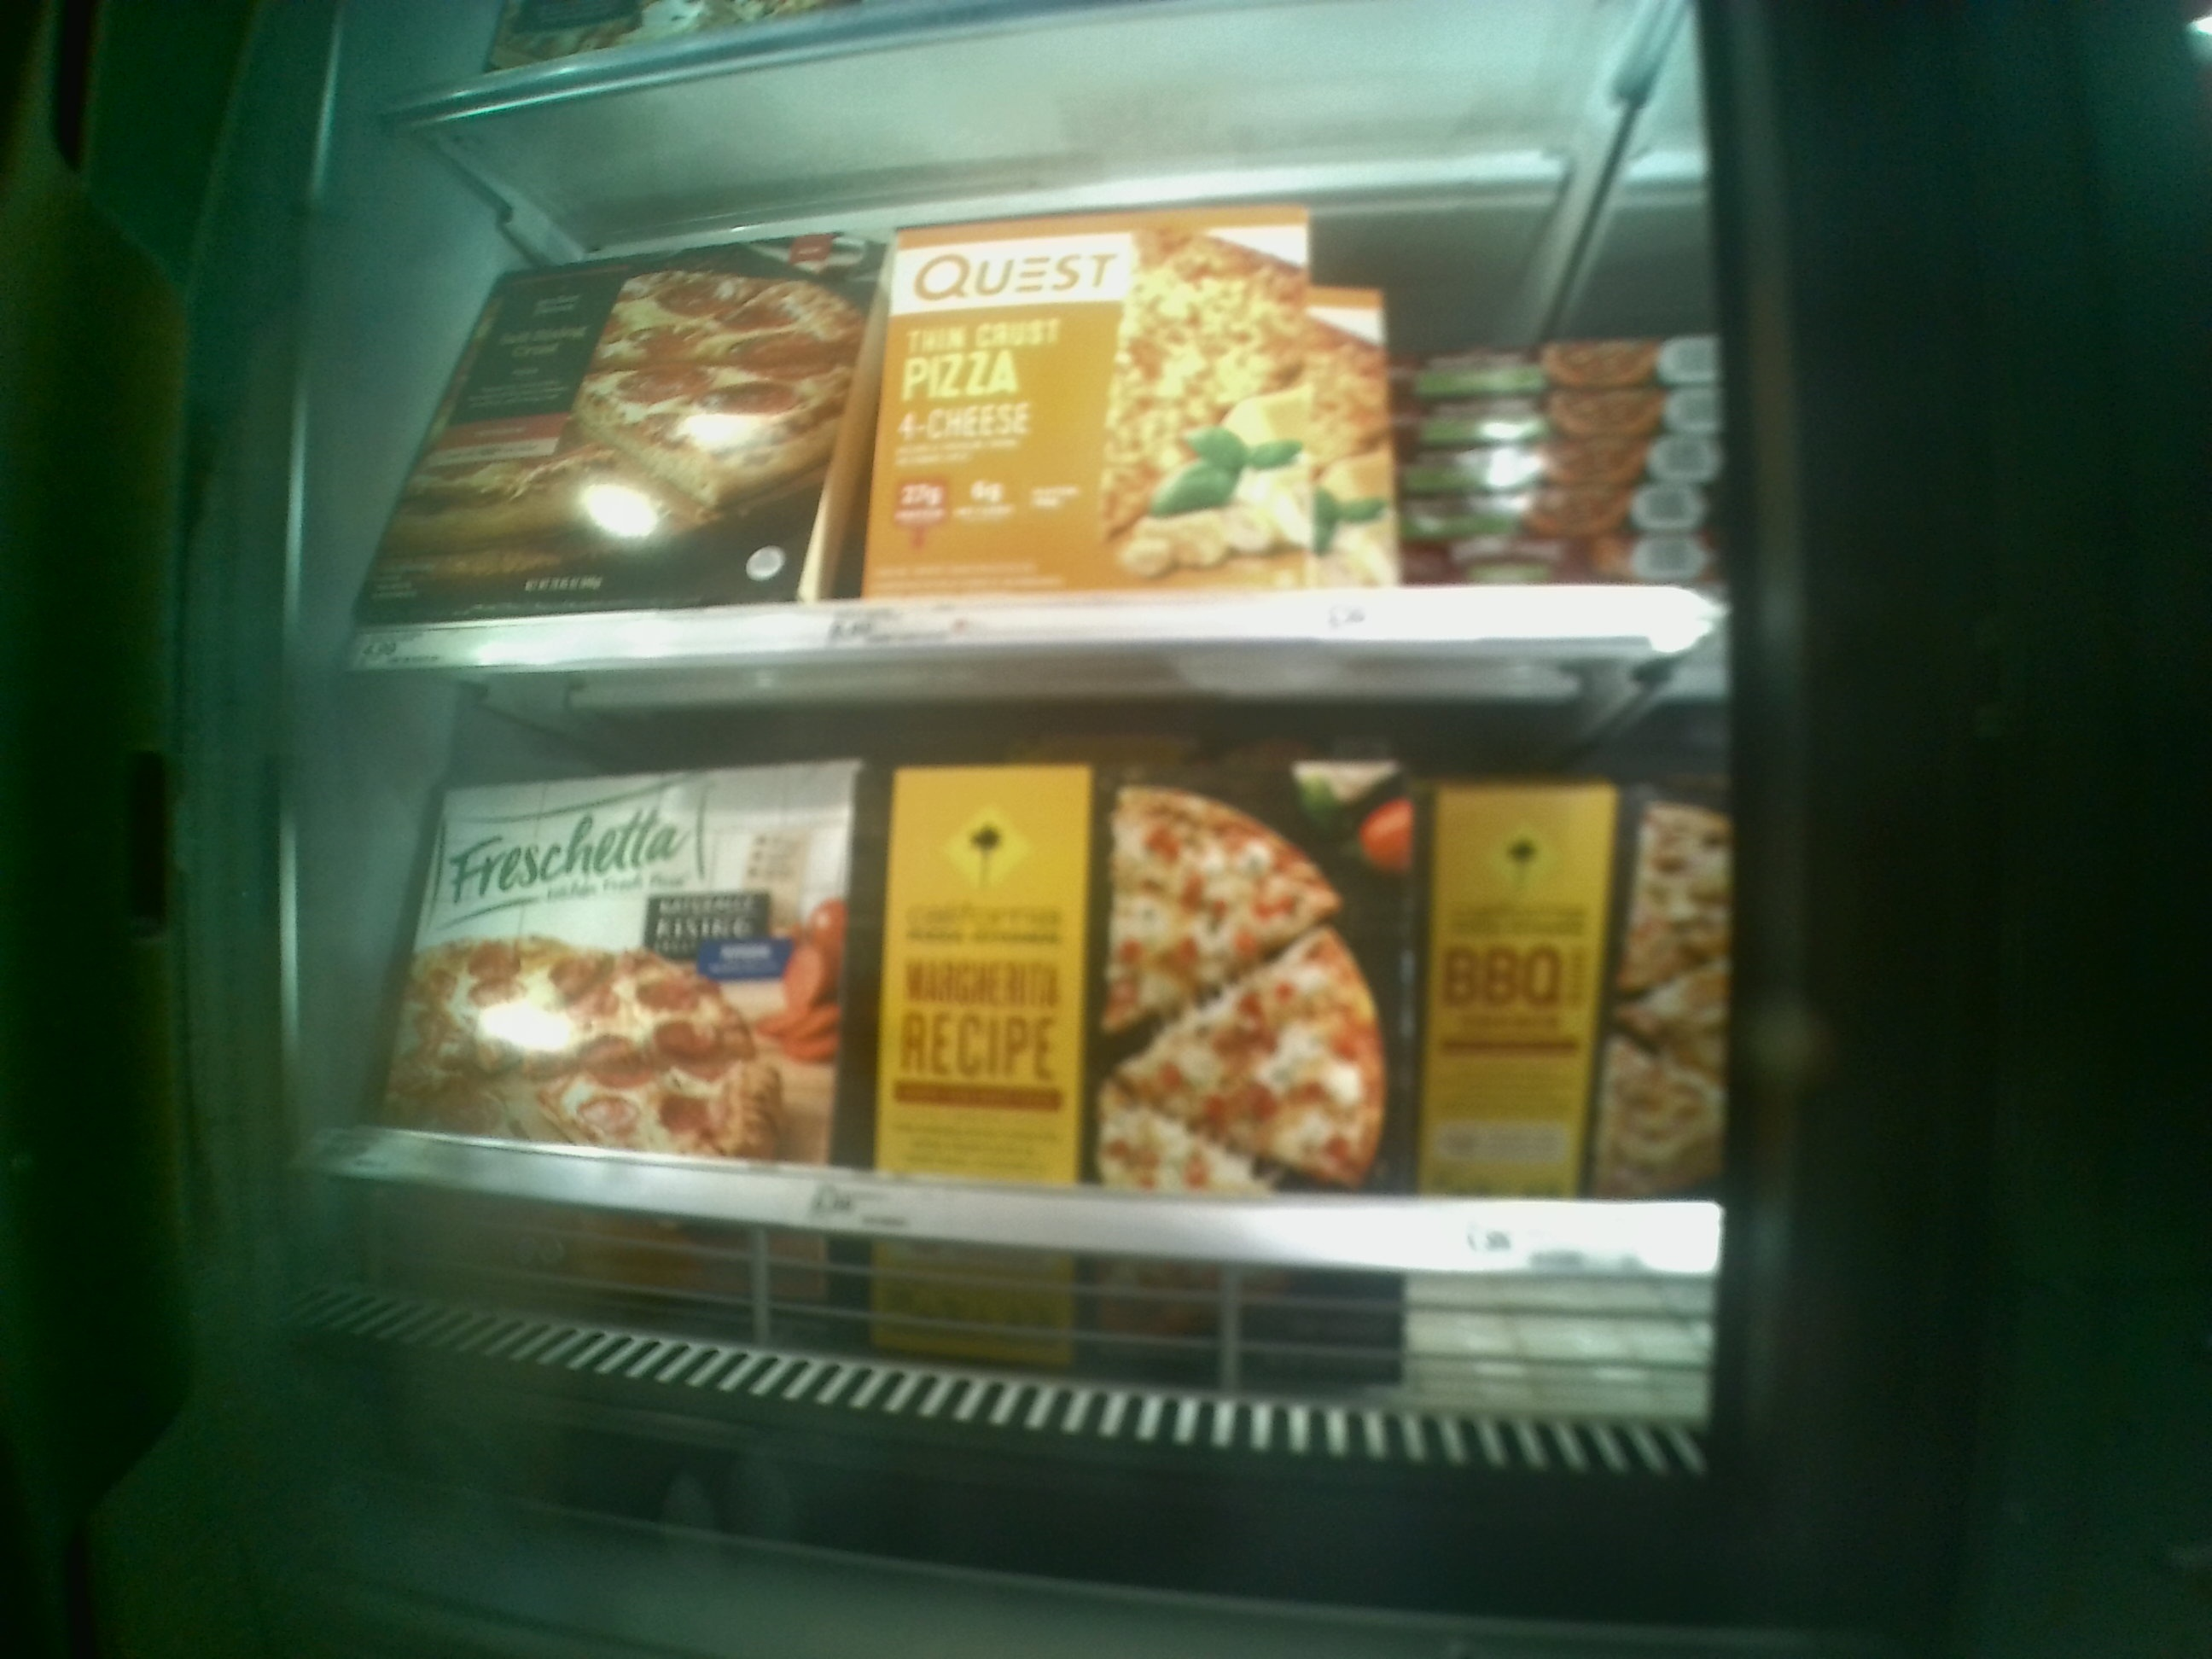shelf: (324, 633, 1789, 1270)
